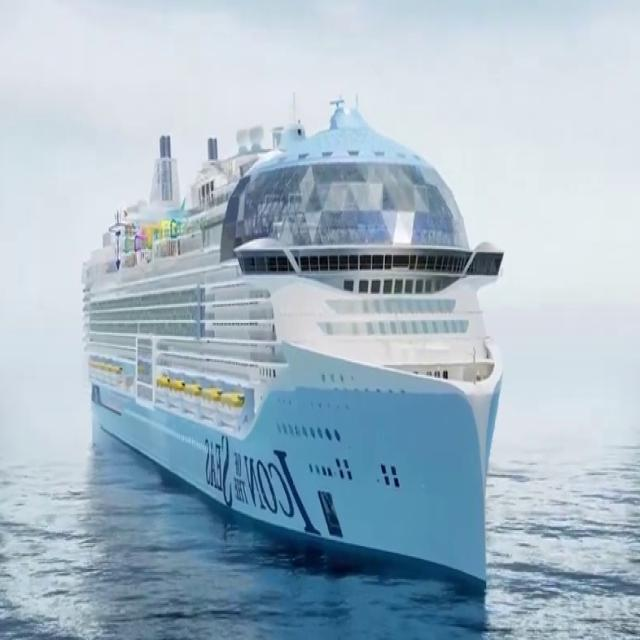passenger ship: (79, 90, 516, 584)
